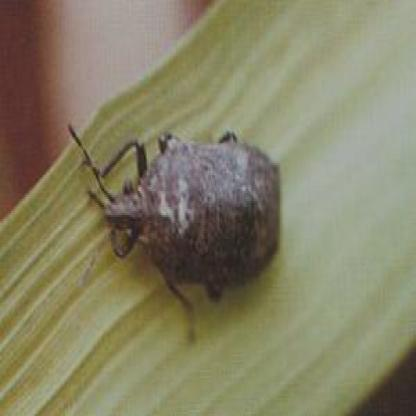rice-bug: (92, 128, 284, 302)
